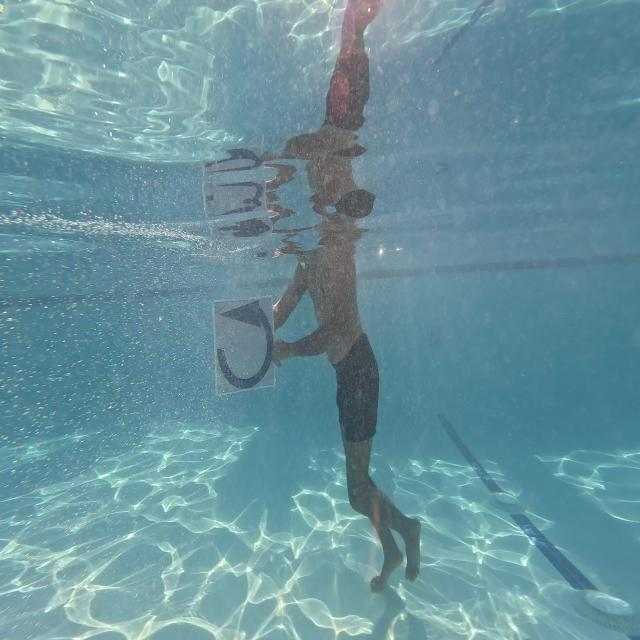blue_side: (215, 303, 273, 397)
